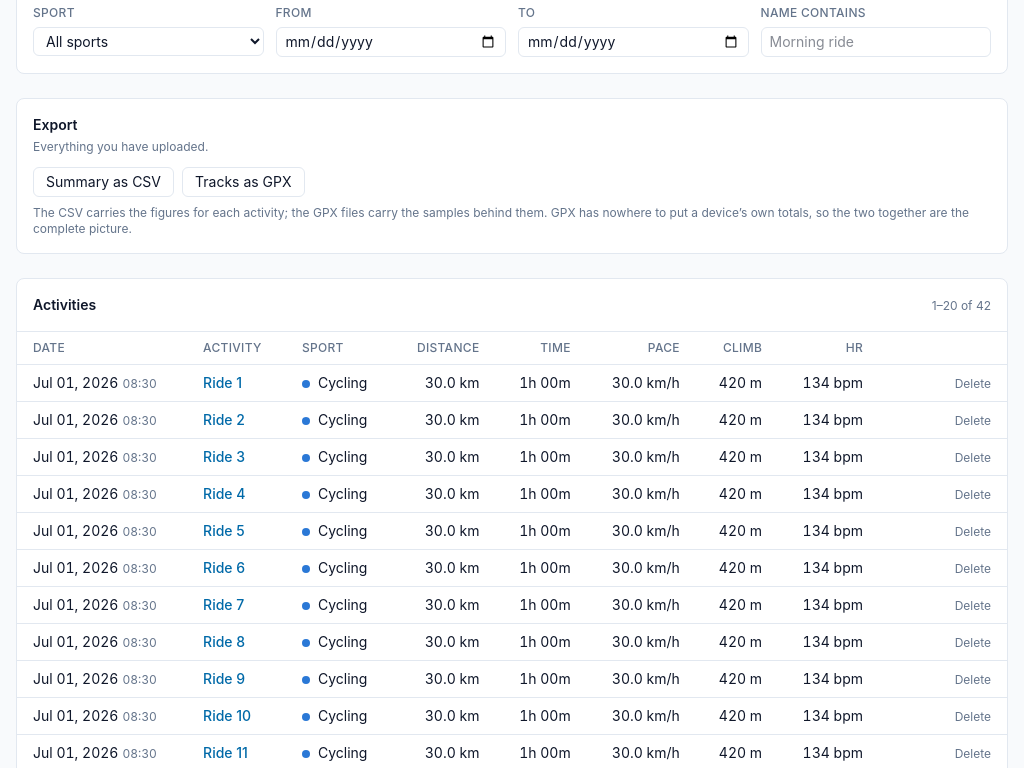
Scenario: Dashboard deletion › reports a refused delete
(page scrolled)
Click the button with aria-label "Delete Ride 1": click(973, 384) x1=955 y1=376 x2=991 y2=392
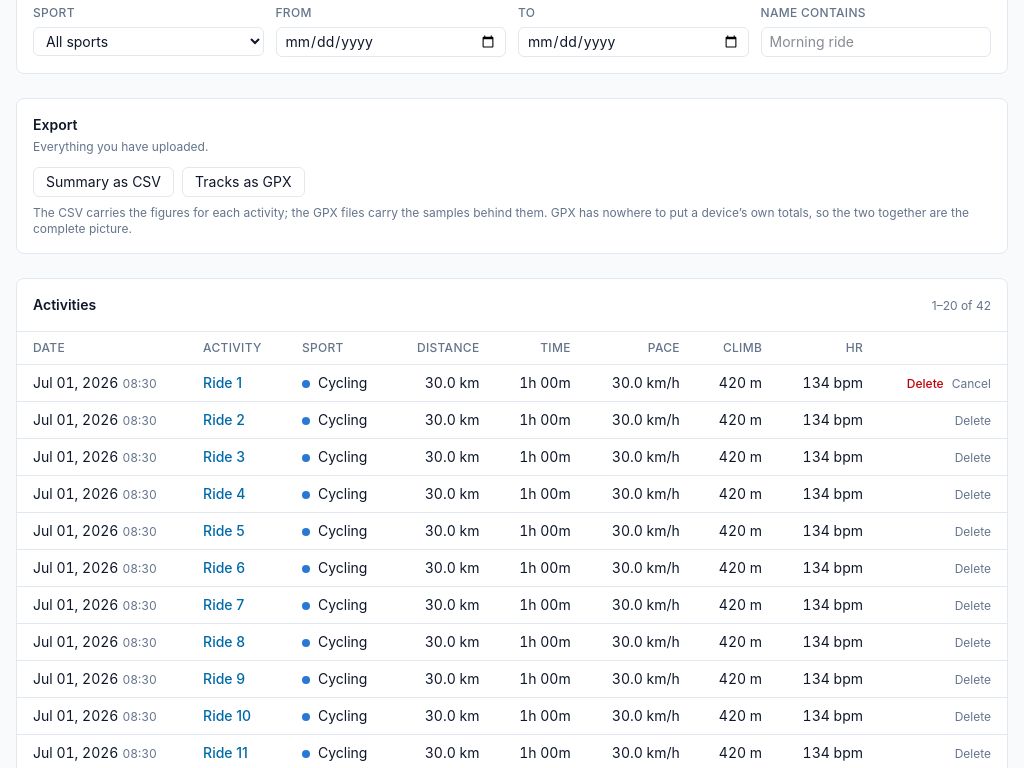
Click the button with aria-label "Confirm deleting Ride 1": click(925, 384) x1=907 y1=376 x2=944 y2=392
(page scrolled)
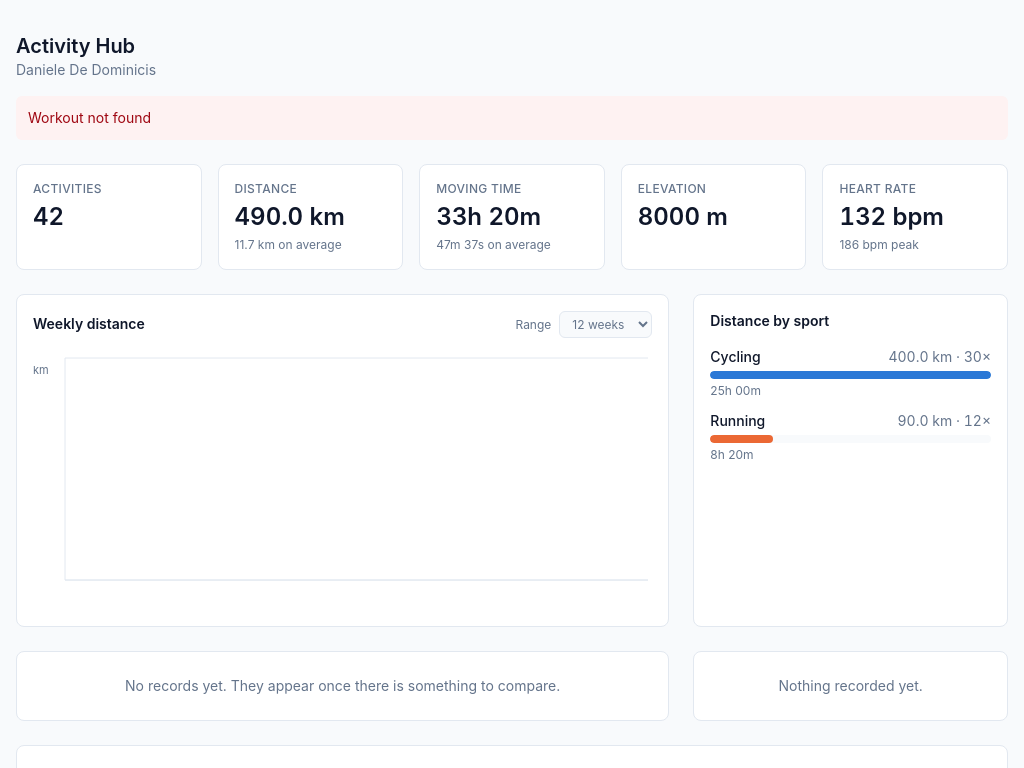
Now the message reads "Workout not found", box x1=28 y1=109 x2=151 y2=126
